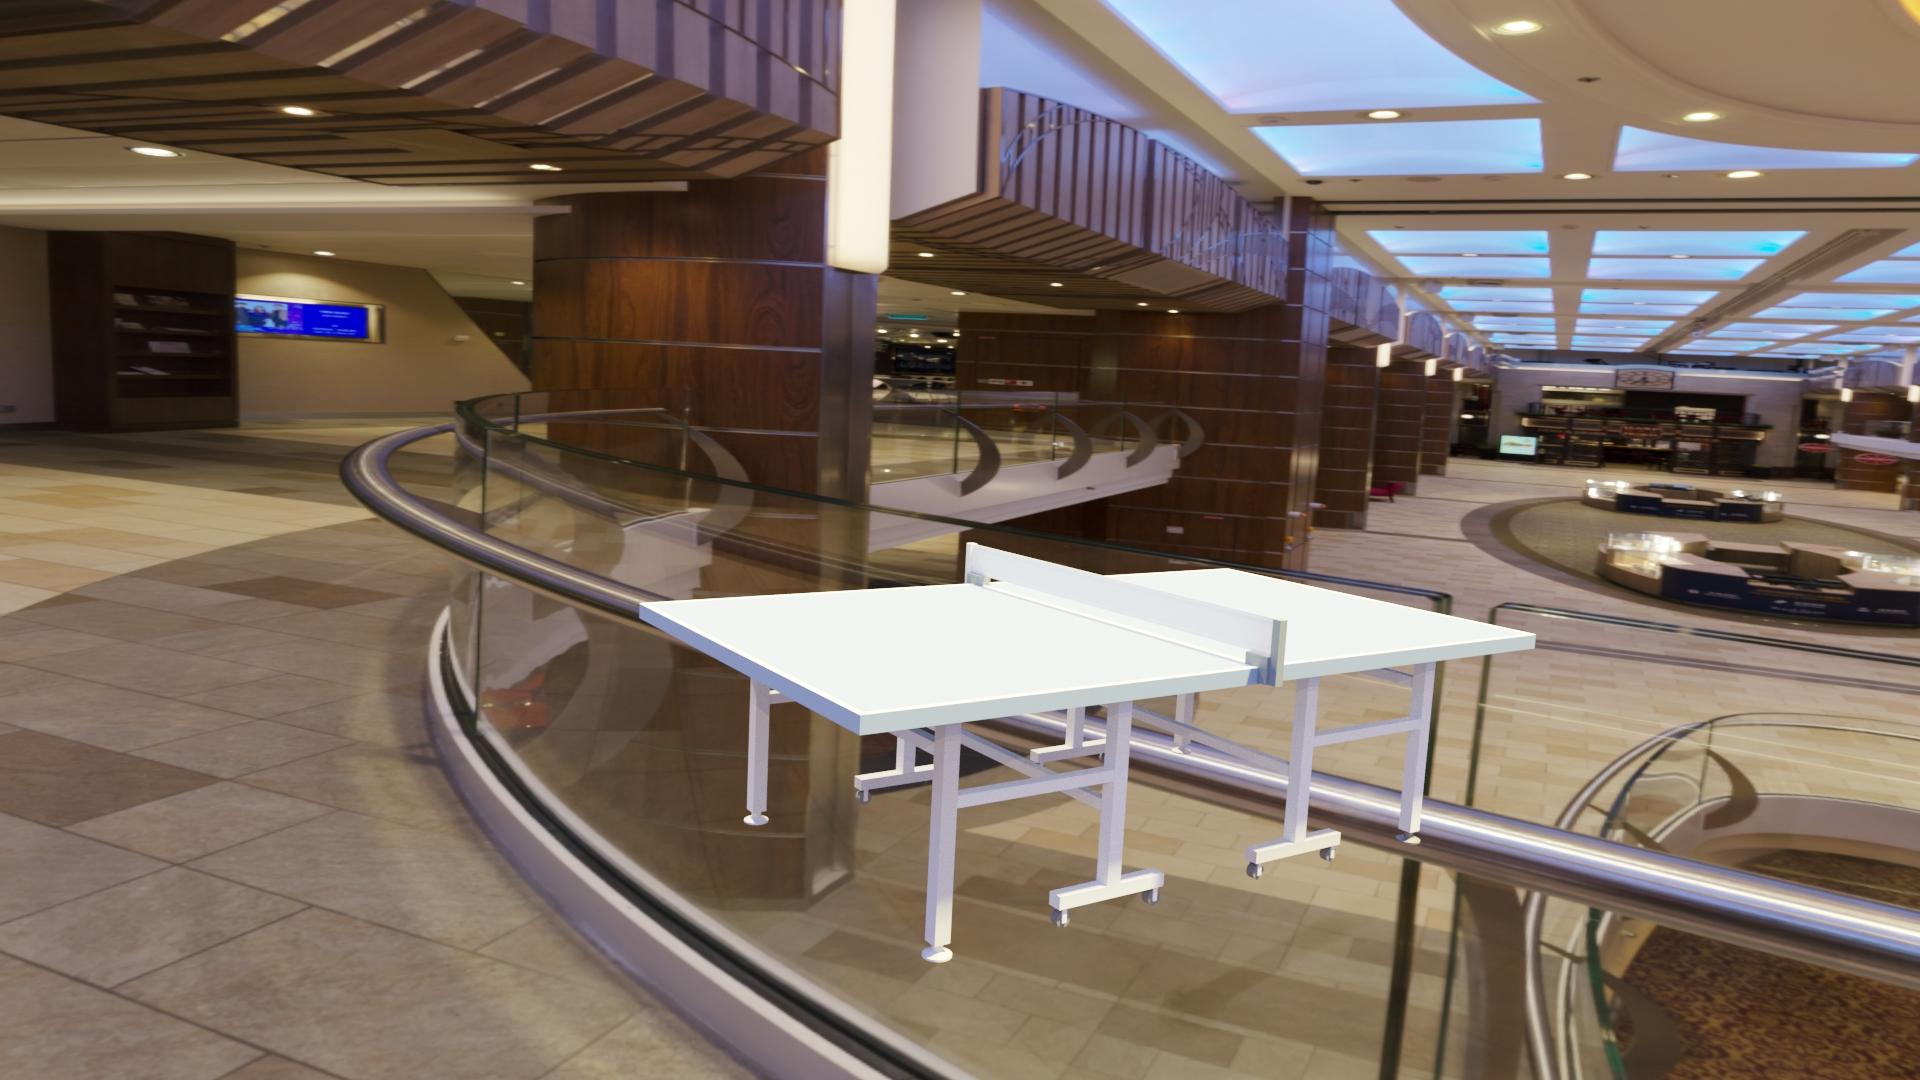table: (647, 570, 1527, 712)
